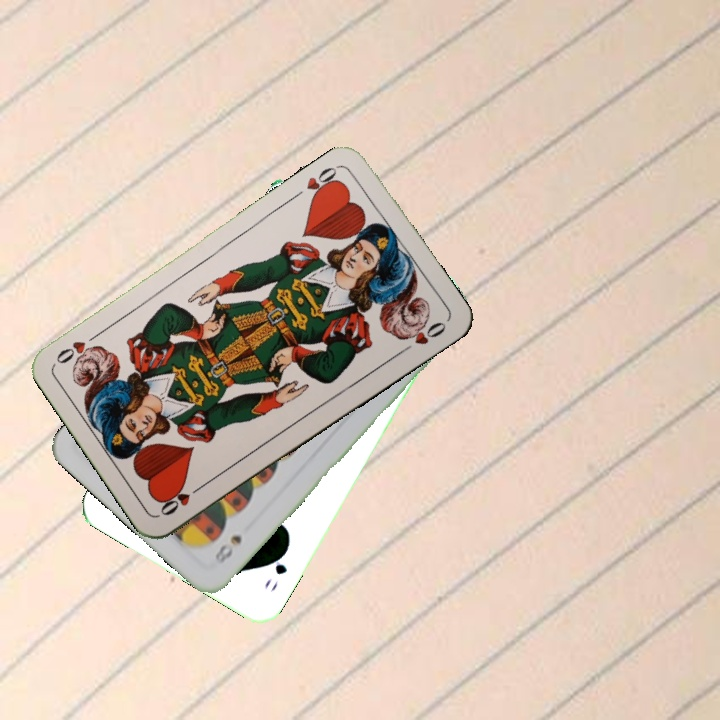GO: (260, 544, 291, 594)
HO: (156, 479, 208, 519), (302, 161, 344, 204)
S8: (211, 530, 245, 567)
